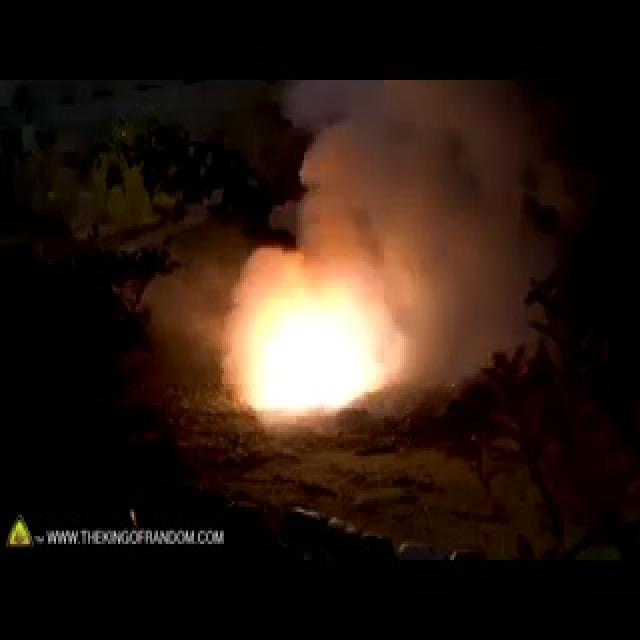fire: (223, 204, 419, 420)
